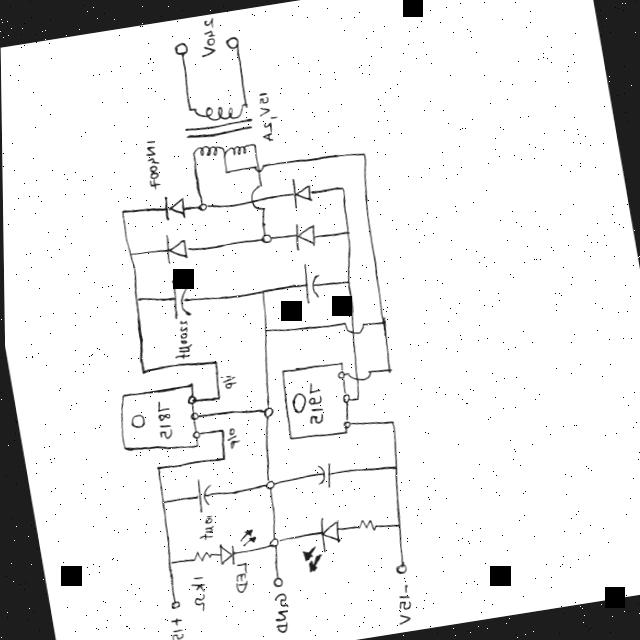capacitor: (166, 275, 194, 320), (298, 260, 324, 304), (190, 474, 216, 513), (312, 460, 335, 489)
crossover: (247, 182, 272, 214), (341, 315, 365, 333), (346, 367, 372, 379), (251, 160, 267, 175)
diode: (294, 513, 343, 573), (214, 526, 259, 567), (160, 232, 190, 263), (290, 220, 319, 251), (288, 176, 316, 208), (162, 192, 188, 221)
junction: (260, 476, 278, 492), (257, 230, 275, 245), (258, 404, 274, 419), (265, 535, 279, 549), (195, 200, 207, 212), (342, 276, 353, 287), (342, 227, 352, 237), (377, 316, 387, 326), (132, 293, 142, 303), (337, 183, 347, 192), (260, 325, 270, 334), (212, 393, 222, 402), (137, 366, 147, 375), (359, 149, 368, 158), (392, 520, 401, 529), (390, 462, 399, 471), (164, 557, 173, 566), (257, 287, 266, 296), (153, 463, 162, 472), (217, 454, 226, 462), (222, 167, 230, 175), (118, 207, 126, 215), (126, 249, 134, 257), (158, 497, 166, 505), (387, 418, 395, 425), (211, 358, 219, 365), (353, 394, 361, 401), (217, 426, 225, 433), (385, 366, 392, 373)
resistor: (354, 515, 378, 533), (188, 547, 213, 563)
terminal: (172, 39, 190, 57), (224, 34, 241, 51), (392, 560, 407, 576), (269, 574, 283, 589), (167, 598, 180, 610)
text: (254, 89, 280, 142), (140, 137, 165, 191), (168, 316, 196, 360), (302, 378, 326, 427), (266, 589, 292, 634), (389, 581, 415, 626), (152, 396, 176, 442), (196, 16, 221, 57), (187, 574, 208, 613), (229, 561, 251, 594), (194, 513, 217, 541), (163, 614, 185, 640), (223, 425, 241, 450), (219, 372, 237, 390)
transformer: (182, 94, 258, 163)
